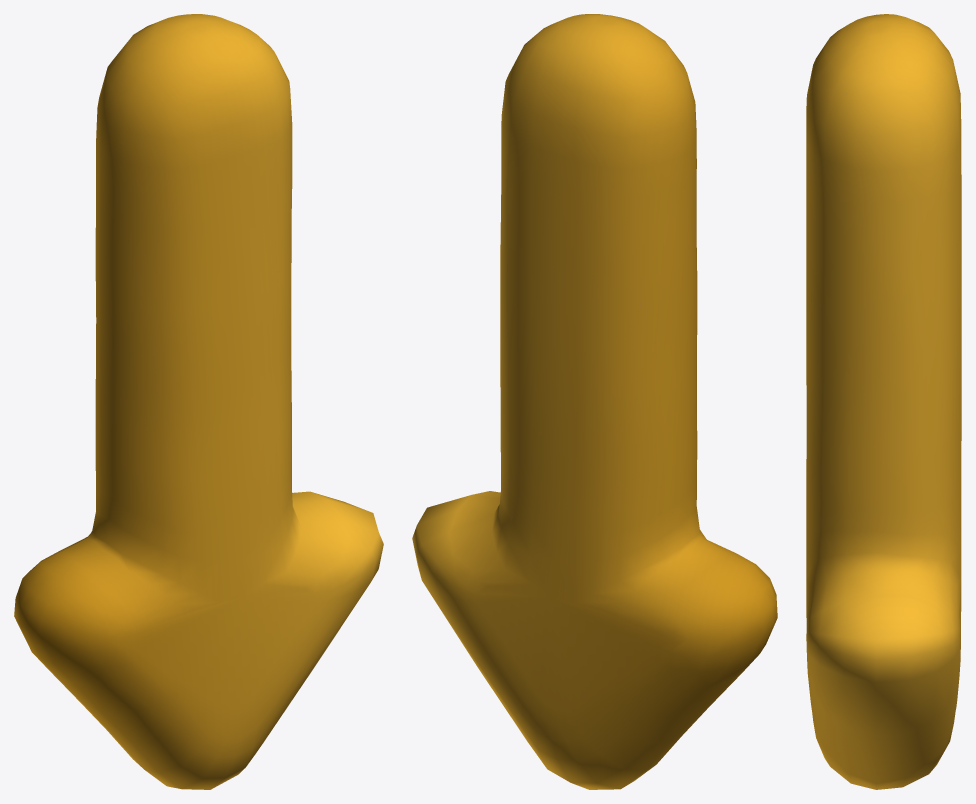
File: Arrow.fbx
3 views of the same model, side by side, from view 1: azimuth 30°, elevation 25°; view 2: azimuth 150°, elevation 25°; view 3: azimuth 270°, elevation 25° (orthographic).
Visible parts, largest first — view 1: Arrow; view 2: Arrow; view 3: Arrow.
Part boxes in pixels (left/top/right/bottom): Arrow: left=14, top=14, right=383, bottom=789; Arrow: left=412, top=14, right=777, bottom=789; Arrow: left=806, top=14, right=961, bottom=789.
Bounding box in the file's own units: 0.2348 × 0.4874 × 0.0905.
